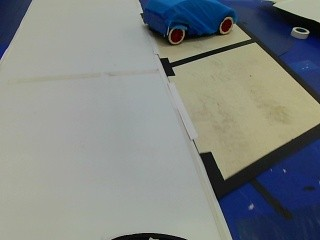car: (136, 0, 239, 45)
